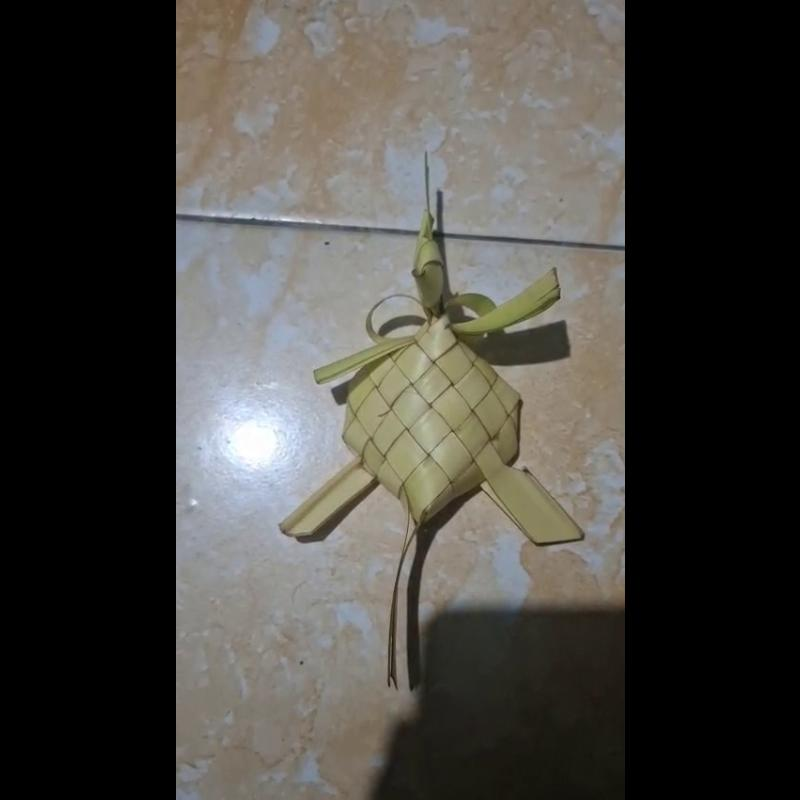Tipat Dampulan: (277, 152, 600, 703)
